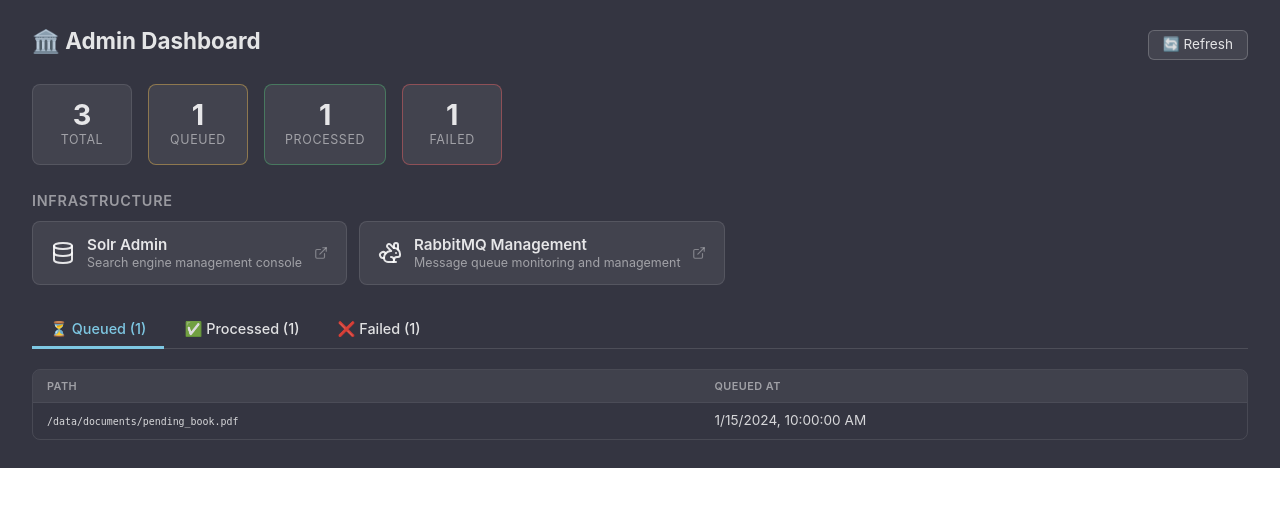
Test: AdminPage › switches to the processed tab and shows processed documents
Click the tab "✅ Processed (1)" at [242, 331], box x1=166 y1=313 x2=318 y2=349
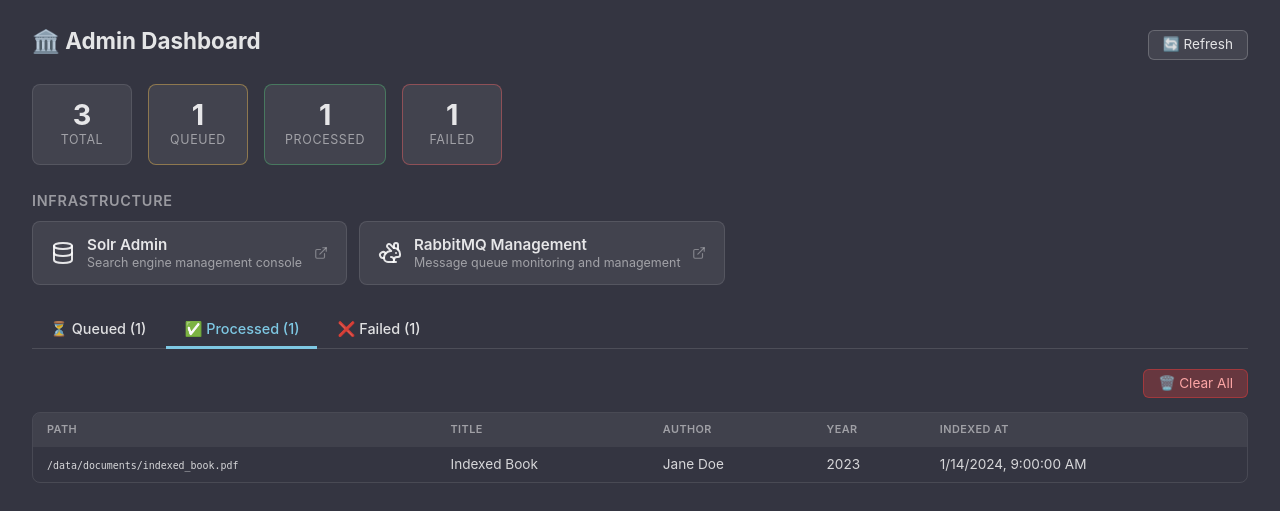
Now the text "/data/documents/indexed_book.pdf" is shown, box x1=47 y1=460 x2=238 y2=471
Now the text "Indexed Book" is shown, box x1=436 y1=446 x2=649 y2=482
Now the text "Jane Doe" is shown, box x1=649 y1=446 x2=813 y2=482
